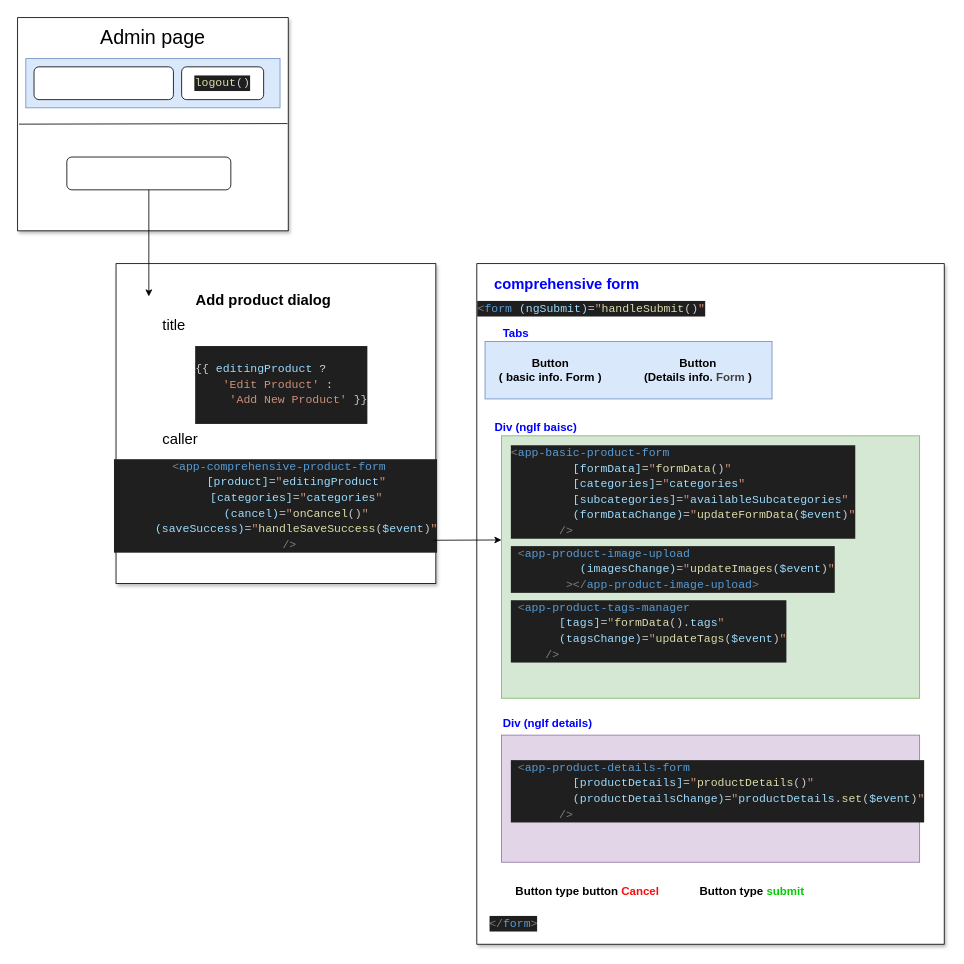
Image size: 964x964. Some labels were removed from this diagram. Each missing label, with the centre of its shape:
"app-add-product-dialog" belongs at point 148,173.
"openAddForm ()" belongs at point 103,83.
